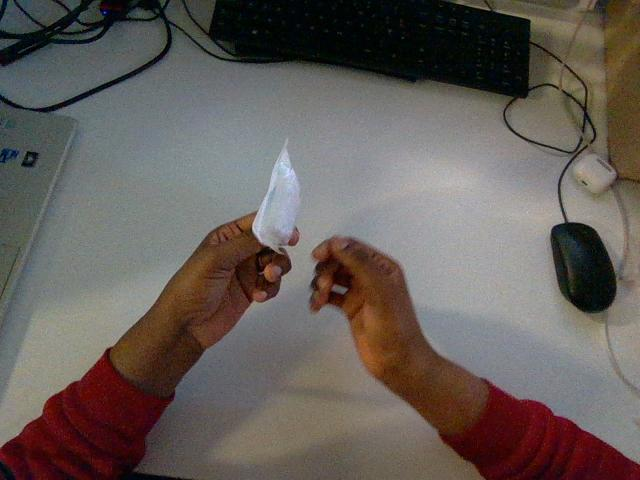gauze: (252, 140, 299, 250)
